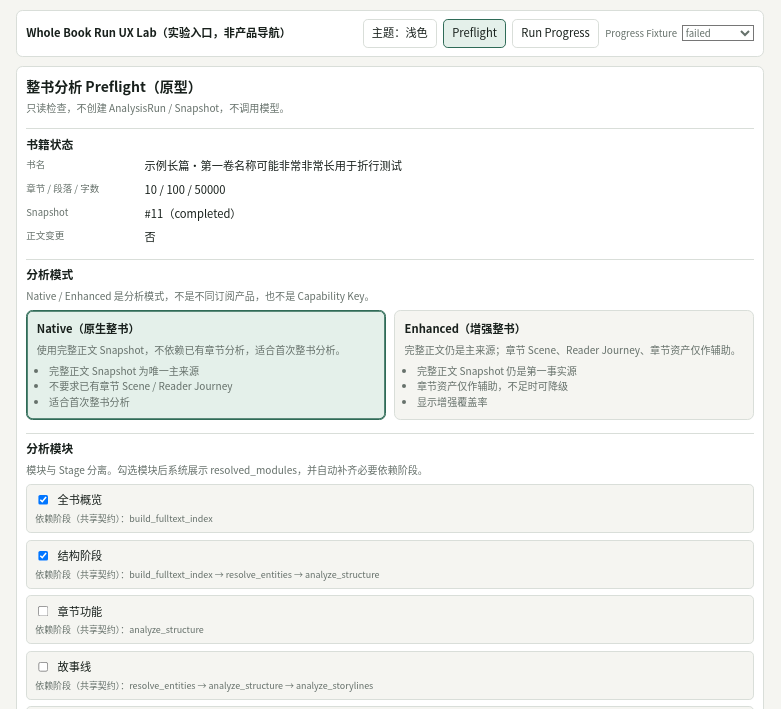
Test: DTO guards, theme, a11y, no real start › status is not color-only — text status present
Click the button with test id "tab-progress" at (556, 33), box top-left (512, 19), bottom-right (599, 48)
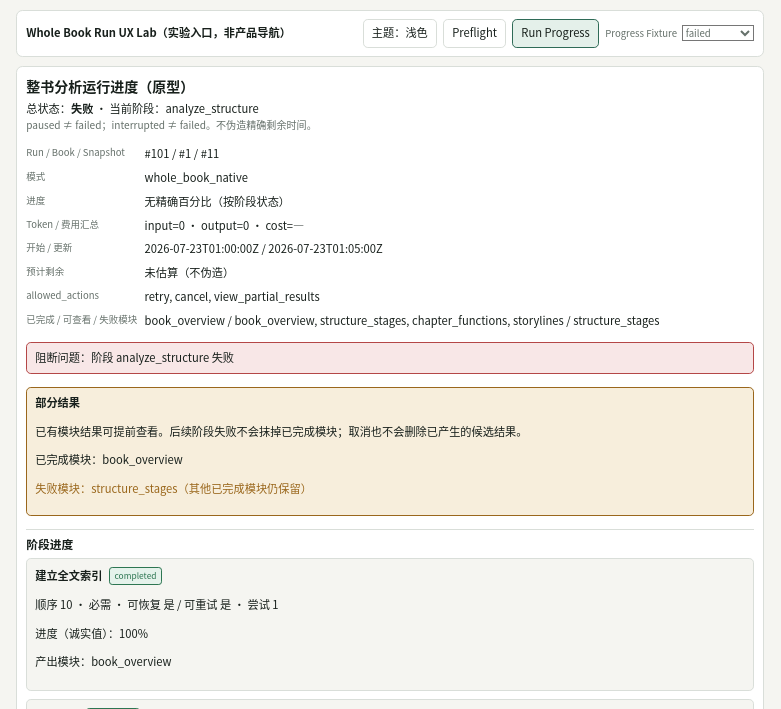
Expected: the message with test id "run-status-text" shows "失败", top-left (71, 100), bottom-right (93, 116)
